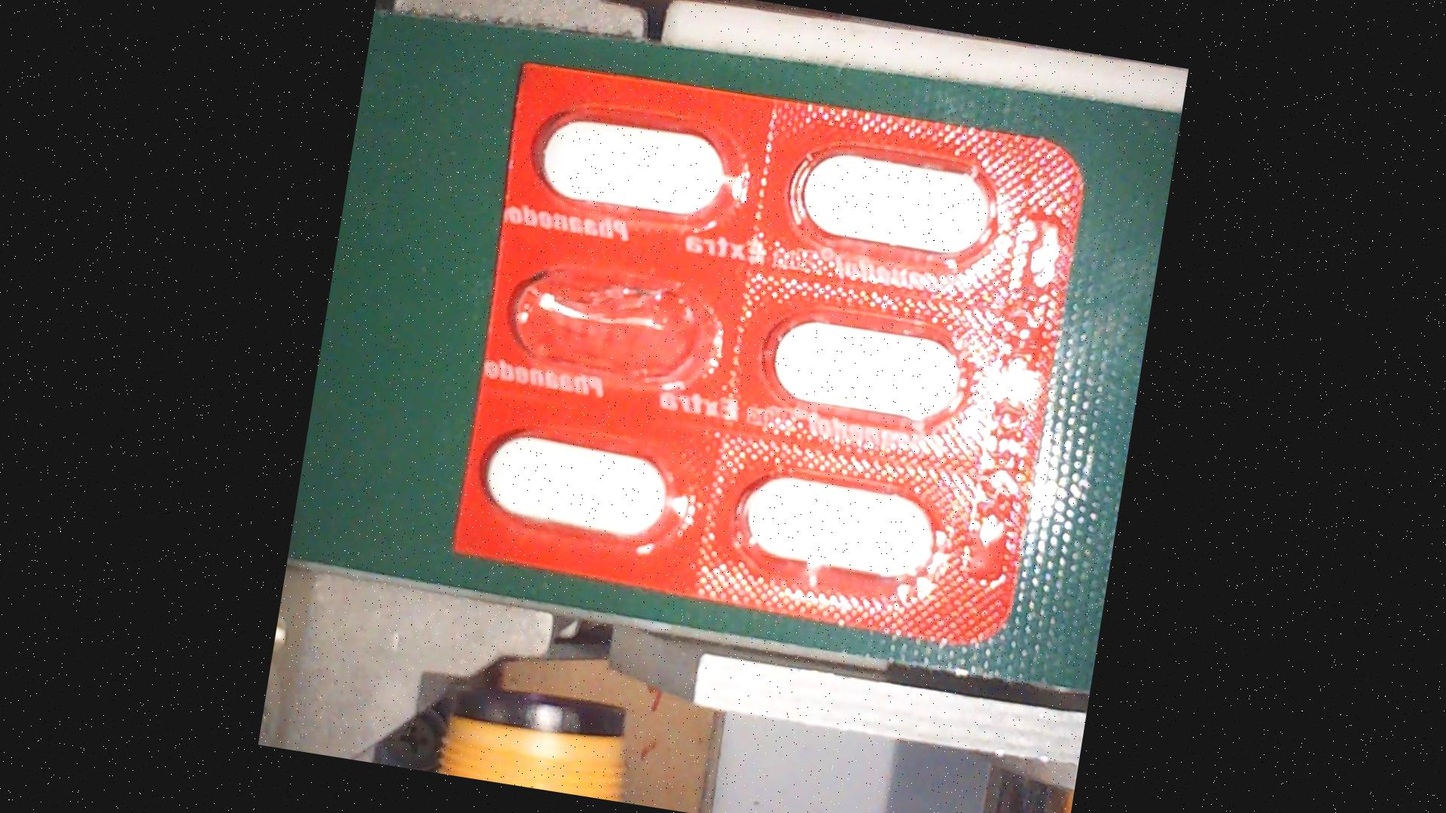Empty: (498, 247, 730, 394)
Full: (525, 88, 756, 235), (780, 130, 1011, 276), (750, 292, 981, 438), (731, 452, 962, 598), (465, 411, 696, 557)
